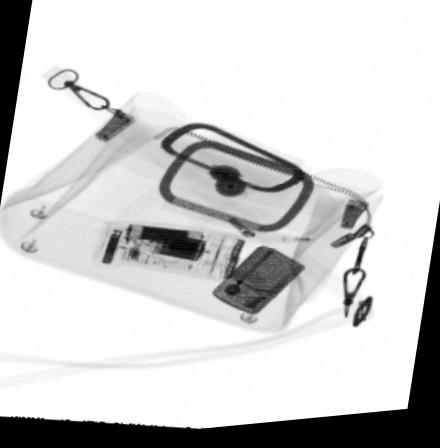Lighter: (212, 249, 307, 320)
